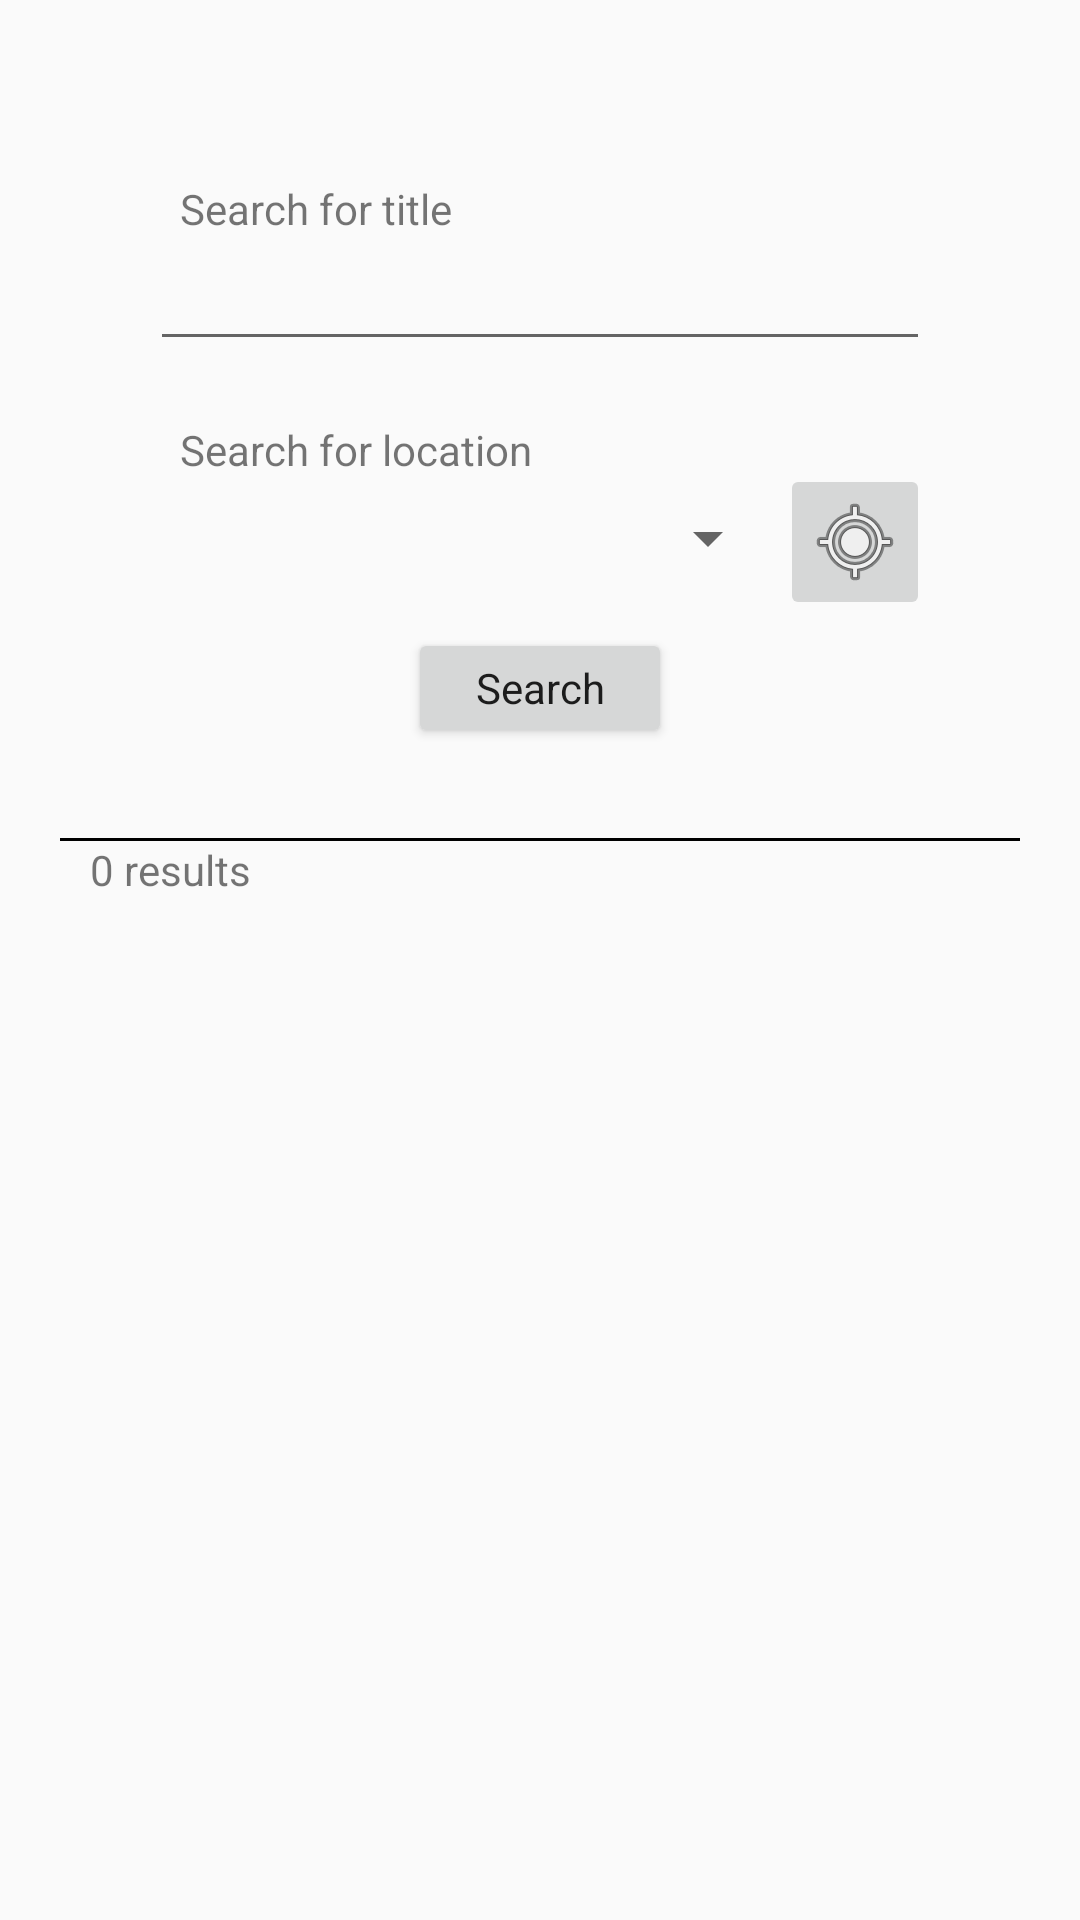

Where icons sit on this 1080px×1920px app screen, as BBox(x1, y1, x2, y2):
mylocation: BBox(792, 482, 918, 602)
